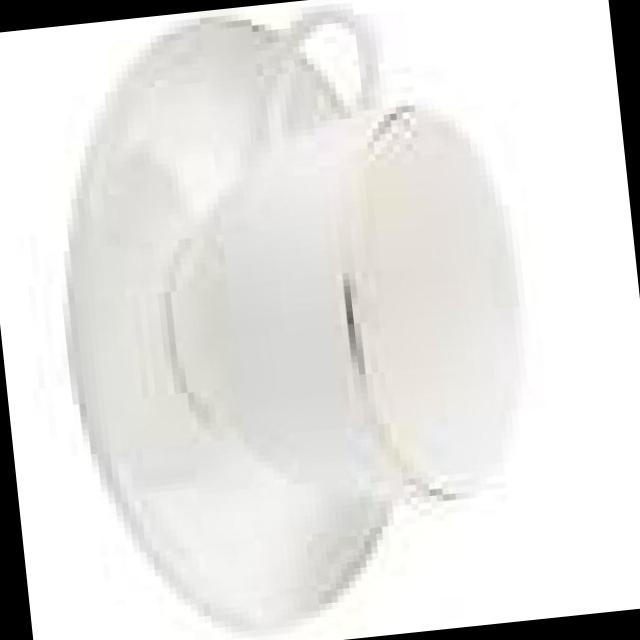Coffee Mug: (137, 0, 540, 544)
